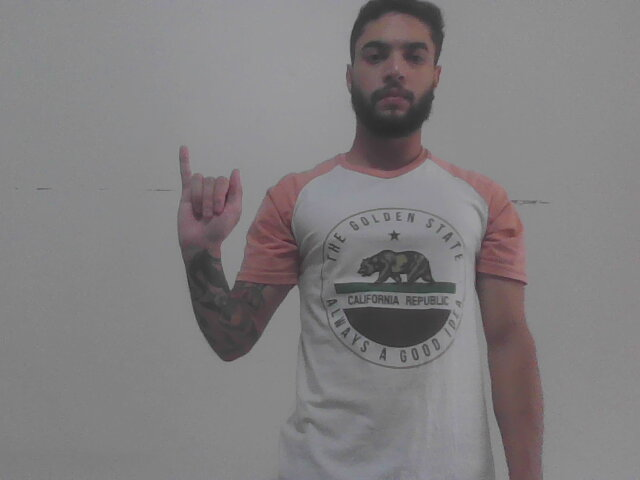i: (167, 139, 251, 251)
